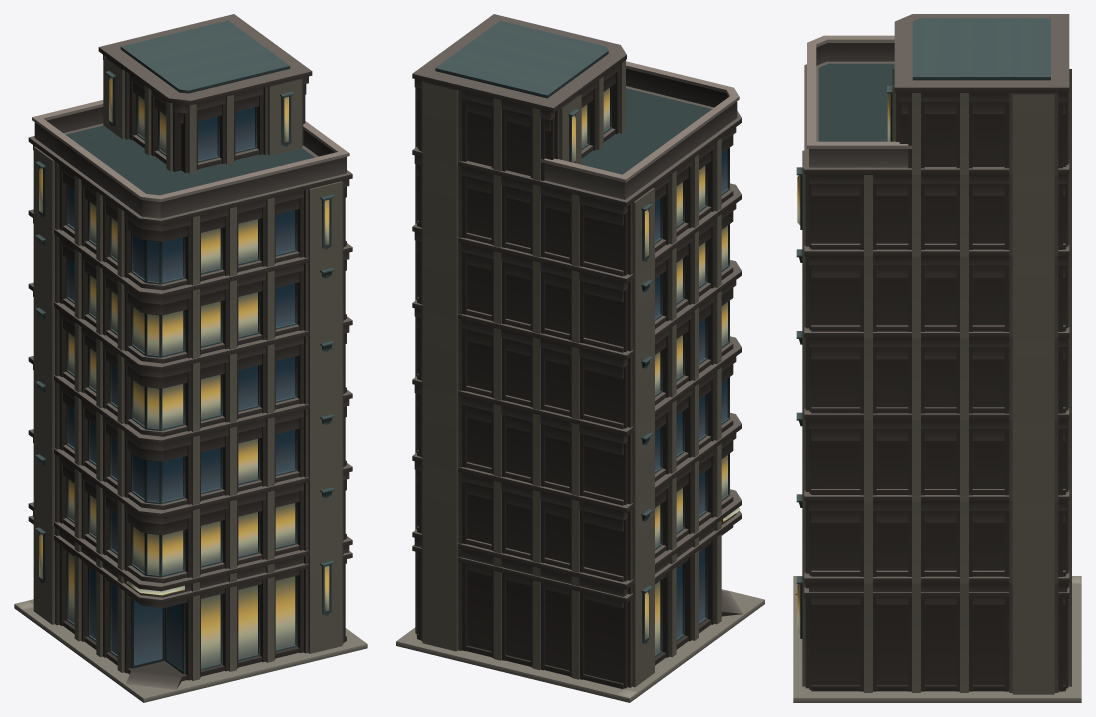
Rendered from Building_14A.fbx.
3 renders of one model, left to right at view 1: azimuth 30°, elevation 25°; view 2: azimuth 150°, elevation 25°; view 3: azimuth 270°, elevation 25°, orthographic. The views are drawn at different scales.
Parts seen in each view (by area): view 1: Building_14A, Window_Lights_14A; view 2: Building_14A, Window_Lights_14A; view 3: Building_14A.
Boxes of the visible parts, x1,y1,x2,y2 form: Building_14A: (14, 14, 367, 702); Window_Lights_14A: (68, 96, 295, 667); Building_14A: (396, 14, 764, 702); Window_Lights_14A: (581, 88, 727, 654); Building_14A: (793, 14, 1081, 702).
Bounding box in the file's own units: 1600 × 3750 × 1600.
